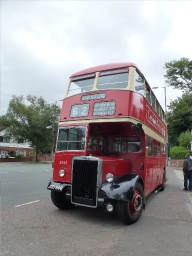bus: (47, 60, 170, 227)
person: (182, 152, 192, 194)
